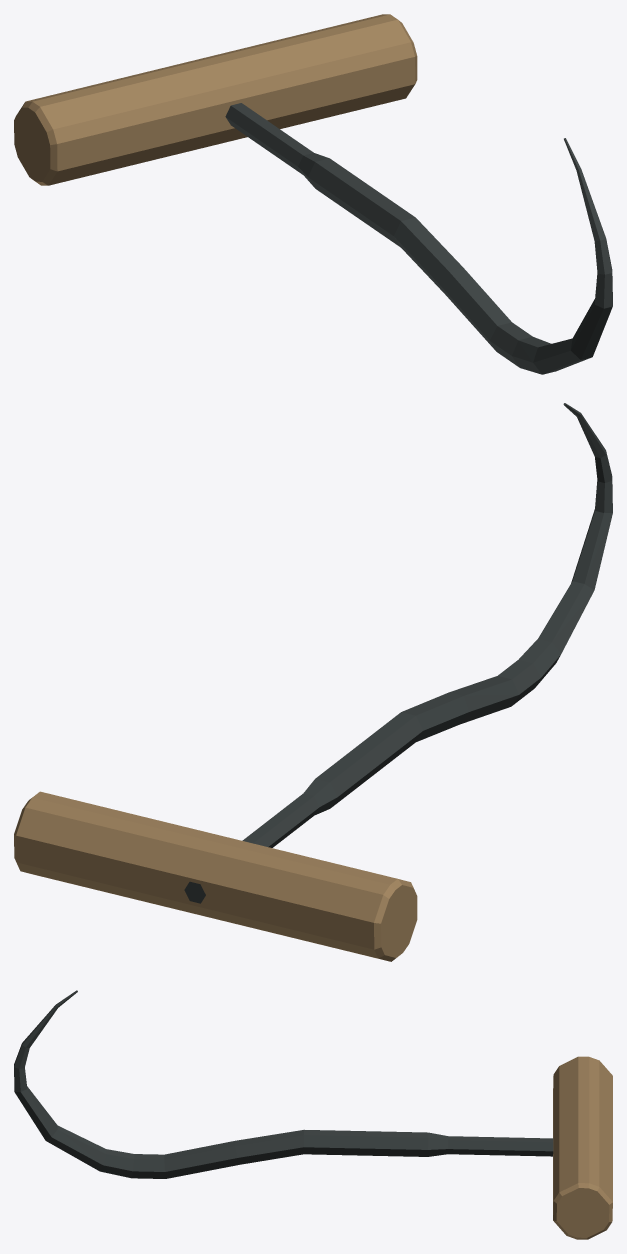
3 renders of one model, top to bottom at view 1: azimuth 30°, elevation 25°; view 2: azimuth 150°, elevation 25°; view 3: azimuth 270°, elevation 25°, orthographic. The views are drawn at different scales.
Visible parts, largest first — view 1: Wood_T_grip_with_through_hex_bore, Continuous_hex_steel_tang_shank_hook; view 2: Wood_T_grip_with_through_hex_bore, Continuous_hex_steel_tang_shank_hook; view 3: Continuous_hex_steel_tang_shank_hook, Wood_T_grip_with_through_hex_bore.
Boxes of the visible parts, x1,y1,x2,y2 form: Wood_T_grip_with_through_hex_bore: (14, 14, 417, 185); Continuous_hex_steel_tang_shank_hook: (225, 103, 612, 374); Wood_T_grip_with_through_hex_bore: (14, 791, 417, 961); Continuous_hex_steel_tang_shank_hook: (184, 403, 612, 903); Continuous_hex_steel_tang_shank_hook: (14, 990, 553, 1178); Wood_T_grip_with_through_hex_bore: (553, 1056, 612, 1239).
Bounding box in the file's own units: 0.16 × 0.107 × 0.3123.
